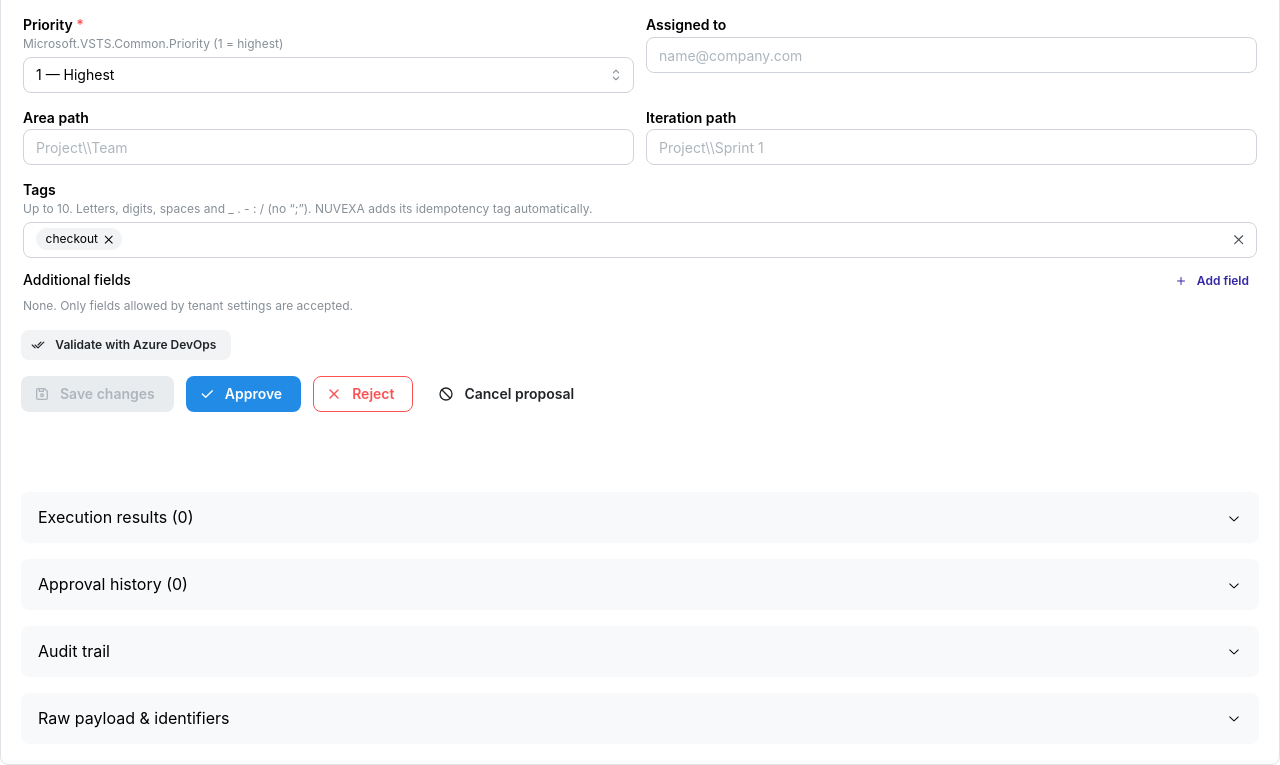
Test: <ActionCard> execution results, audit trail and raw payload › audit trail: empty and error (with retry) states
(page scrolled)
Click the button "Audit trail" at (74, 651), box [22, 627, 1258, 676]
(page scrolled)
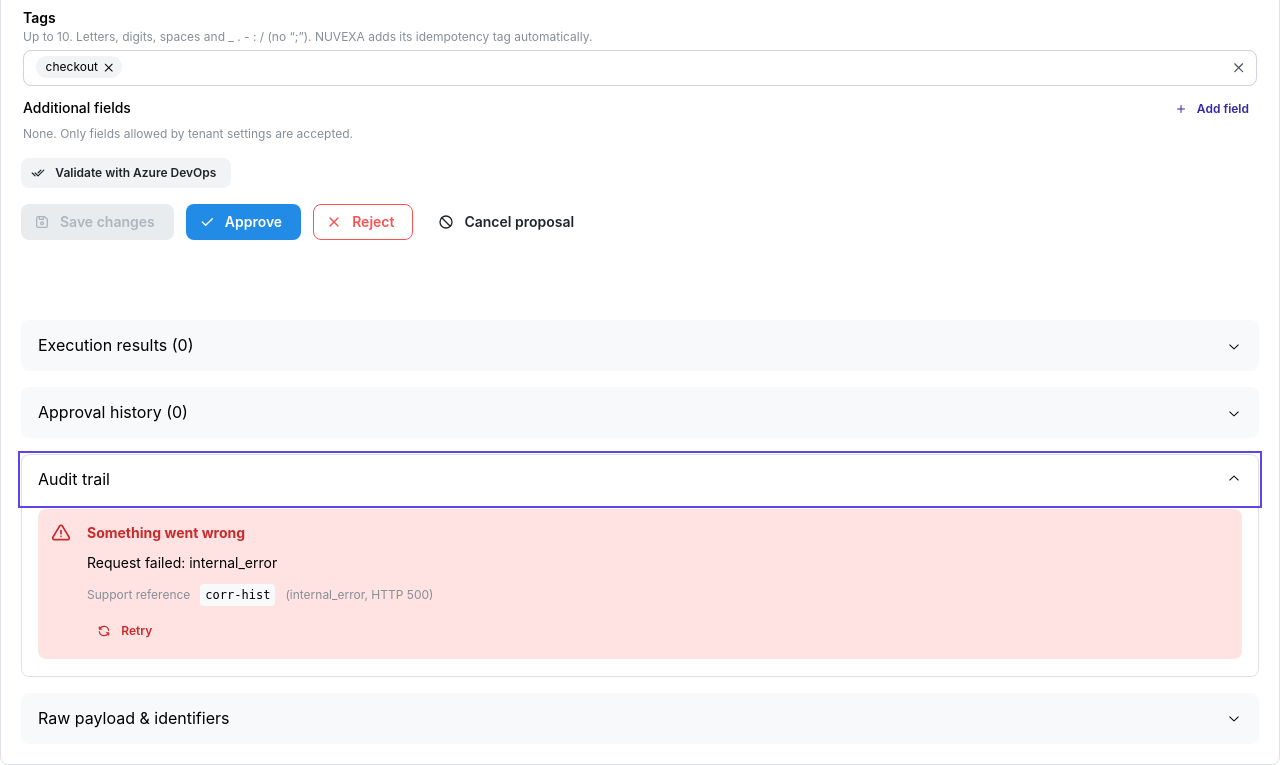
Check: the text "corr-hist" is shown, box [200, 584, 275, 606]
Click the button "Retry" at (127, 631), box [87, 616, 167, 646]
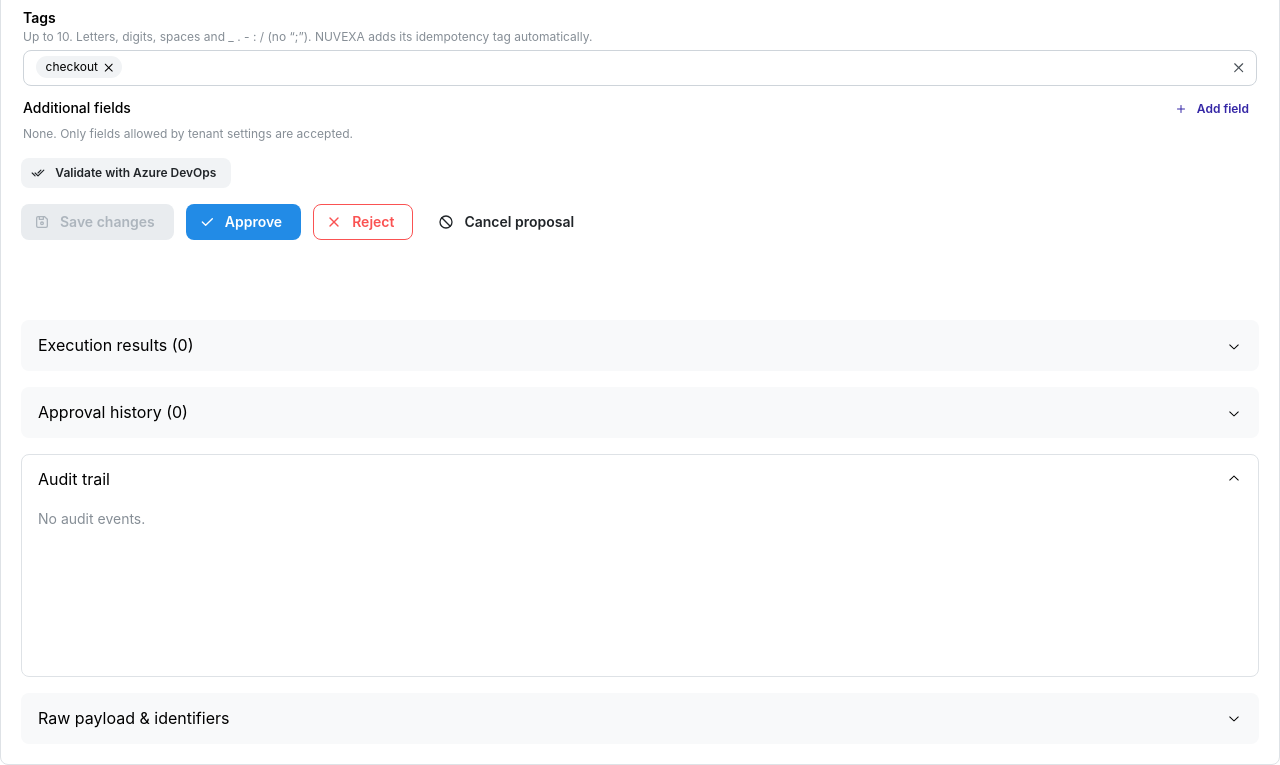
Check: the text "No audit events." is shown, box [38, 510, 145, 527]
